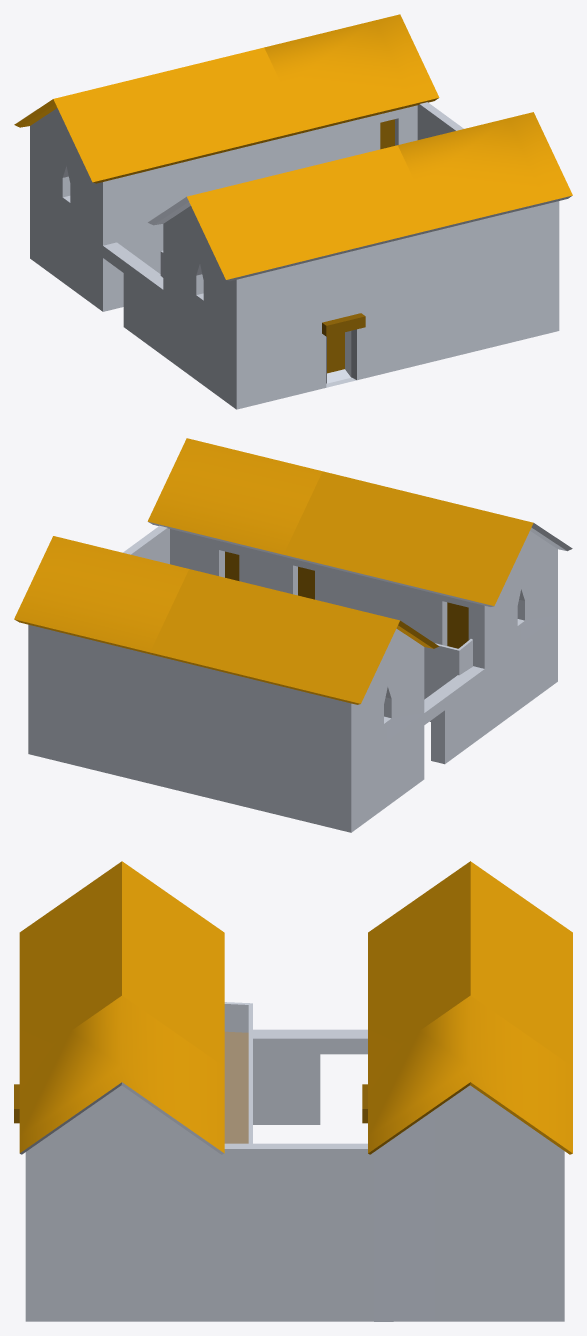
Rendered from House1.fbx.
3 views of the same model, one above another, from view 1: azimuth 30°, elevation 25°; view 2: azimuth 150°, elevation 25°; view 3: azimuth 270°, elevation 25° (orthographic). The views are drawn at different scales.
Visible parts, largest first — view 1: pCube32; view 2: pCube32; view 3: pCube32.
Part boxes in pixels (<box>): pCube32: <box>14,14,572,409</box>; pCube32: <box>14,438,572,832</box>; pCube32: <box>14,861,572,1321</box>.
Size of the model in its own units: 2.74 by 1.43 by 2.93.
